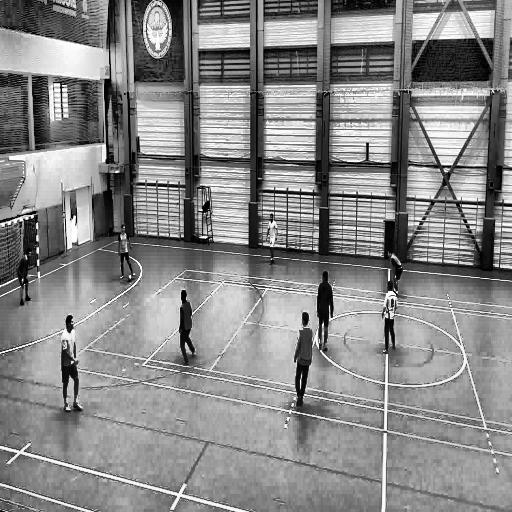ball: (126, 272, 134, 285)
player: (61, 313, 83, 413), (294, 311, 312, 412), (316, 270, 334, 353), (178, 288, 196, 367), (381, 280, 399, 357), (117, 223, 137, 282), (16, 247, 35, 308), (388, 246, 403, 296), (265, 212, 278, 266)
